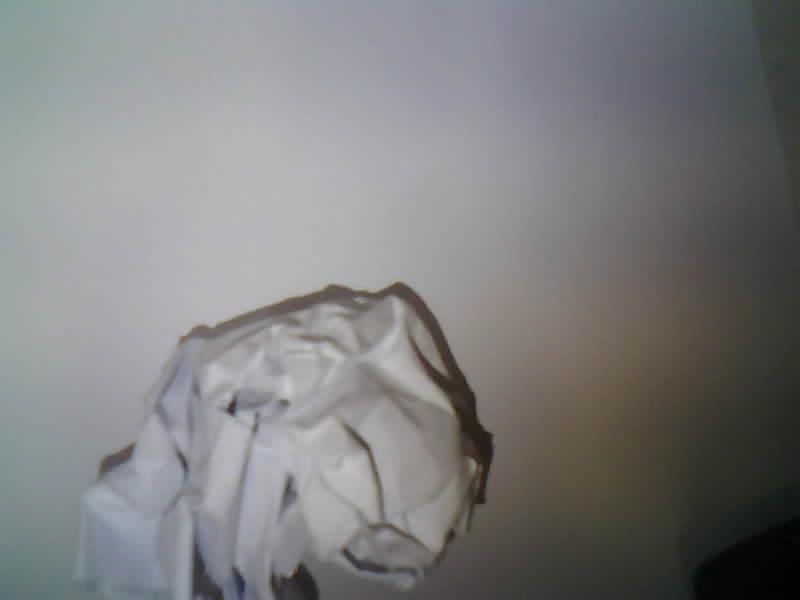biodegradable: (76, 288, 490, 599)
